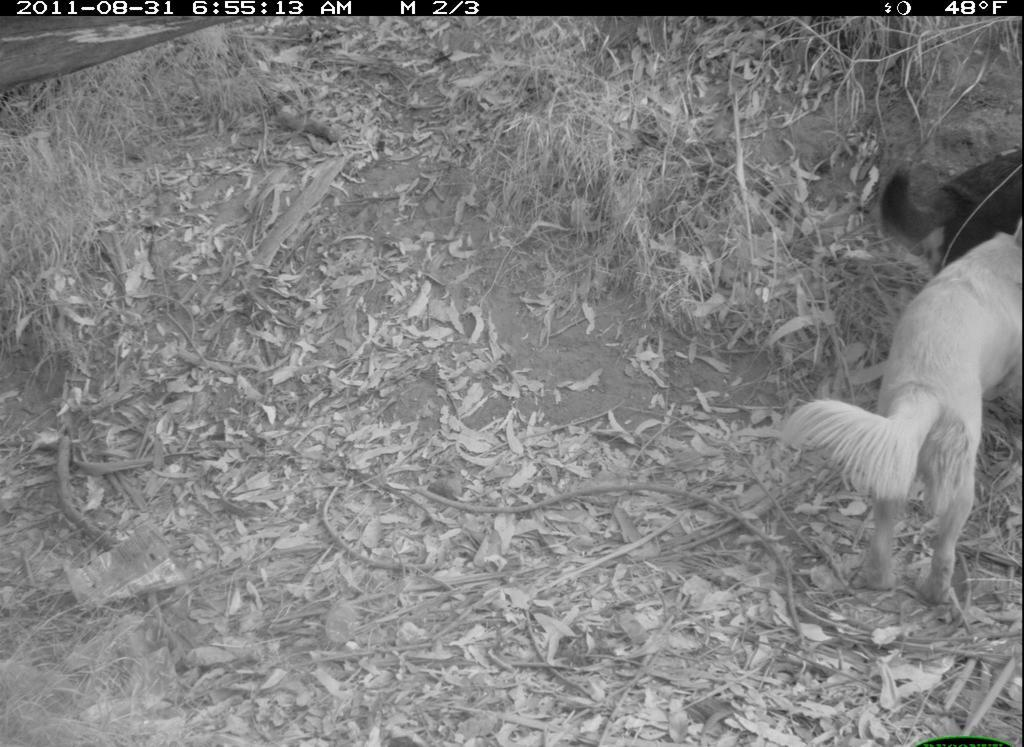dog: (785, 227, 1023, 626), (849, 105, 1017, 260)
